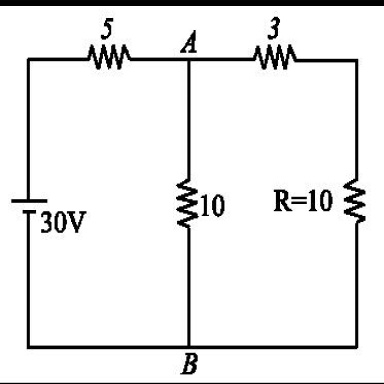DC voltage source: (9, 197, 48, 213)
Resistor: (250, 45, 299, 71), (174, 175, 198, 228), (84, 44, 132, 70), (342, 176, 368, 223)
